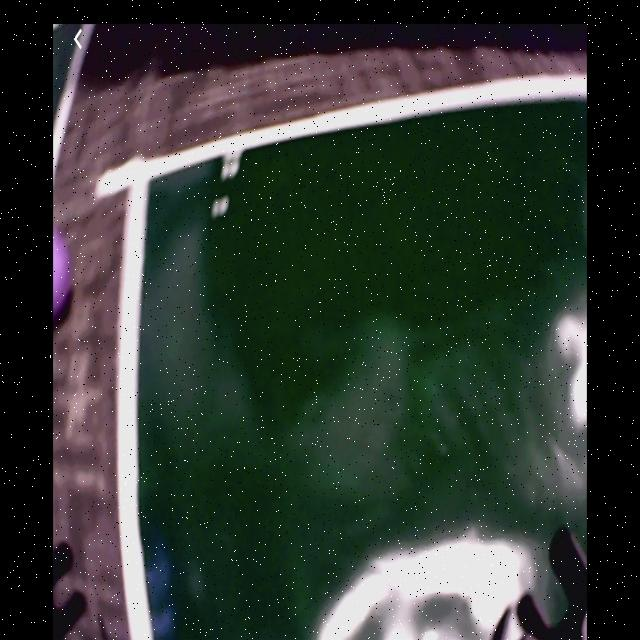ball: (54, 231, 74, 317)
